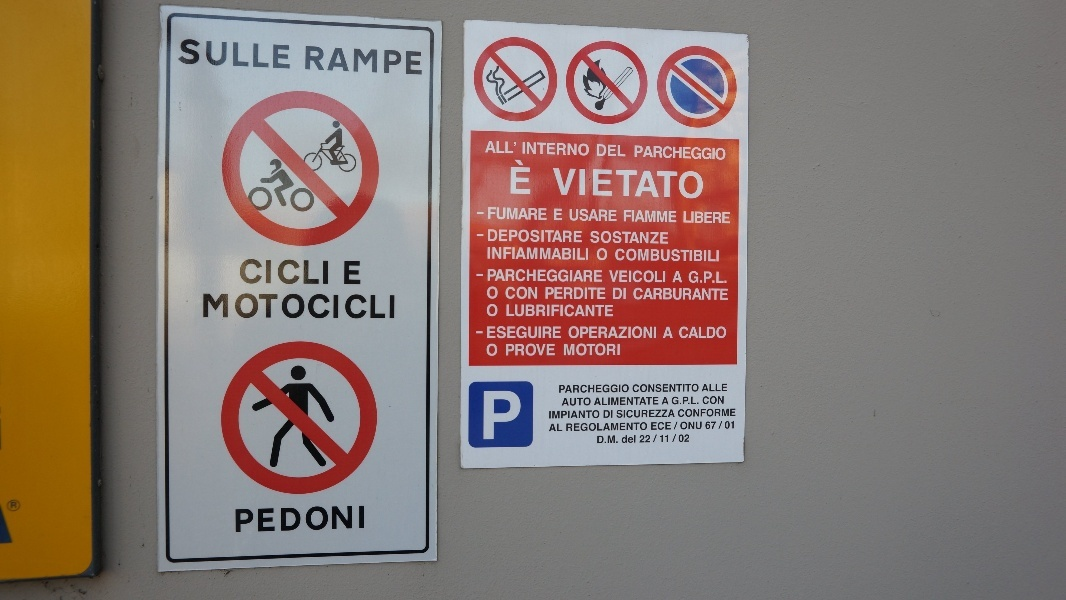text: (497, 391, 512, 440), (484, 391, 496, 440), (561, 168, 576, 200), (577, 168, 592, 200), (593, 168, 608, 200), (609, 168, 624, 200), (625, 168, 640, 200), (641, 168, 656, 200), (657, 168, 672, 200), (673, 168, 688, 200), (689, 168, 704, 200), (193, 39, 208, 70), (209, 39, 224, 70), (225, 39, 240, 70), (241, 39, 256, 70), (257, 39, 272, 70), (273, 39, 288, 70), (513, 166, 528, 196), (305, 46, 320, 76), (321, 46, 336, 76), (337, 46, 352, 76), (353, 46, 368, 76), (369, 46, 384, 76), (385, 46, 400, 76), (401, 46, 416, 76), (513, 391, 522, 440), (241, 505, 256, 533), (257, 505, 272, 533), (273, 505, 288, 533), (289, 505, 304, 533), (305, 505, 320, 533), (321, 505, 336, 533), (337, 505, 352, 533), (209, 293, 224, 319), (225, 293, 240, 319), (241, 293, 256, 319), (257, 293, 272, 319), (273, 293, 288, 319), (289, 293, 304, 319), (305, 293, 320, 319), (321, 293, 336, 319), (337, 293, 352, 319), (353, 293, 368, 319), (369, 293, 384, 319), (241, 259, 256, 285), (257, 259, 272, 285), (273, 259, 288, 285), (289, 259, 304, 285), (305, 259, 320, 285), (180, 39, 192, 70), (353, 505, 365, 533), (385, 293, 395, 319), (641, 145, 656, 162), (657, 145, 672, 162), (673, 145, 688, 162), (689, 145, 704, 162), (705, 145, 720, 162), (497, 229, 512, 244), (513, 229, 528, 244), (529, 229, 544, 244), (545, 229, 560, 244), (561, 229, 576, 244), (625, 248, 640, 263), (641, 248, 656, 263), (657, 248, 672, 263), (673, 248, 688, 263), (689, 248, 704, 263), (705, 248, 720, 263), (553, 168, 560, 200), (497, 140, 512, 154), (529, 142, 544, 156), (545, 142, 560, 156), (561, 142, 576, 156), (609, 144, 624, 158), (577, 209, 592, 223), (593, 209, 608, 223), (593, 231, 608, 245), (609, 231, 624, 245), (625, 231, 640, 245), (641, 231, 656, 245), (497, 247, 512, 261), (513, 247, 528, 261), (529, 247, 544, 261), (545, 247, 560, 261), (561, 247, 576, 261), (689, 211, 704, 225), (705, 211, 720, 225), (497, 269, 512, 283), (513, 269, 528, 283), (529, 269, 544, 283), (545, 269, 560, 283), (561, 269, 576, 283), (577, 269, 592, 283), (689, 271, 704, 285), (705, 271, 720, 285), (545, 326, 561, 339), (641, 326, 657, 339), (321, 259, 329, 285), (497, 208, 512, 221), (513, 208, 528, 221), (529, 208, 544, 221), (625, 210, 640, 223), (641, 210, 656, 223), (657, 210, 672, 223), (513, 287, 528, 300), (561, 287, 576, 300), (577, 287, 592, 300), (513, 304, 528, 317), (529, 304, 544, 317), (545, 304, 560, 317), (561, 304, 576, 317), (577, 304, 592, 317), (593, 304, 608, 317), (609, 270, 624, 283), (625, 270, 640, 283), (641, 270, 656, 283), (641, 288, 656, 301), (657, 288, 672, 301), (673, 288, 688, 301), (689, 288, 704, 301), (705, 288, 720, 301), (497, 326, 512, 339), (513, 326, 528, 339), (529, 326, 544, 339), (513, 344, 528, 357), (529, 344, 544, 357), (577, 326, 592, 339), (593, 326, 608, 339), (609, 326, 624, 339), (625, 326, 640, 339), (689, 326, 704, 339), (705, 326, 720, 339), (344, 261, 352, 285), (353, 261, 361, 285), (577, 142, 590, 156), (546, 287, 560, 300), (577, 344, 592, 356), (593, 344, 608, 356), (593, 287, 606, 300), (657, 231, 669, 245), (577, 247, 589, 261), (597, 247, 608, 262), (486, 342, 496, 358), (597, 144, 608, 158), (561, 384, 576, 394), (577, 384, 592, 394), (593, 384, 608, 394), (609, 384, 624, 394), (625, 409, 640, 419), (641, 409, 656, 419), (657, 409, 672, 419), (673, 396, 688, 406), (417, 46, 422, 76), (676, 271, 688, 283), (564, 344, 576, 356), (609, 344, 621, 356), (545, 344, 556, 357), (721, 211, 731, 225), (593, 269, 603, 283), (615, 248, 624, 263), (577, 398, 592, 407), (609, 397, 624, 406), (625, 397, 640, 406), (641, 397, 656, 406), (641, 384, 656, 393), (657, 384, 672, 393), (673, 384, 688, 393), (705, 396, 720, 405), (689, 409, 704, 418), (705, 409, 720, 418), (721, 409, 736, 418), (561, 410, 576, 419), (577, 410, 592, 419), (577, 423, 592, 432), (593, 423, 608, 432), (609, 423, 624, 432), (625, 423, 640, 432), (657, 422, 672, 431), (613, 288, 624, 300), (203, 293, 208, 319), (487, 247, 496, 261), (487, 286, 496, 300), (487, 303, 496, 317), (488, 229, 496, 244), (705, 384, 720, 392), (529, 287, 538, 300), (657, 270, 666, 283), (487, 326, 496, 339), (679, 326, 688, 339), (609, 209, 617, 223), (488, 269, 496, 283), (689, 422, 703, 430), (706, 422, 720, 430), (236, 505, 240, 533), (689, 396, 700, 406), (564, 398, 576, 407), (488, 208, 496, 221), (721, 288, 729, 301), (568, 326, 576, 339), (721, 145, 727, 162), (597, 397, 608, 406), (689, 384, 700, 393), (549, 410, 560, 419), (625, 435, 636, 444), (725, 421, 736, 430), (489, 140, 496, 154), (721, 271, 728, 285), (660, 435, 672, 443), (505, 287, 512, 300), (577, 229, 583, 244), (678, 409, 688, 418), (566, 423, 576, 432), (597, 436, 608, 444), (635, 145, 640, 162), (570, 209, 576, 223), (609, 436, 619, 444), (641, 435, 651, 443), (506, 304, 512, 317), (634, 288, 640, 301), (506, 344, 512, 357), (721, 326, 727, 339), (554, 209, 560, 221), (679, 435, 688, 443), (523, 142, 528, 156), (617, 409, 624, 419), (609, 304, 614, 317), (552, 424, 560, 432), (633, 384, 640, 393), (593, 410, 600, 419), (641, 423, 648, 432), (510, 166, 512, 196), (529, 166, 531, 196), (667, 327, 672, 339), (513, 140, 517, 154), (684, 211, 688, 225), (665, 397, 672, 405), (721, 384, 728, 392), (681, 422, 688, 430), (673, 210, 677, 223), (651, 422, 656, 431), (497, 303, 500, 317), (625, 384, 629, 394), (545, 208, 548, 221), (604, 410, 608, 419), (609, 410, 613, 419), (11, 502, 16, 509), (497, 342, 499, 358), (289, 39, 290, 70), (497, 286, 499, 300), (721, 396, 724, 405), (561, 209, 563, 221), (625, 288, 627, 300), (561, 424, 564, 432), (673, 409, 675, 419), (657, 397, 659, 406), (702, 396, 704, 405), (622, 435, 624, 444), (689, 435, 691, 443), (625, 144, 626, 158), (591, 231, 592, 245), (673, 327, 674, 339), (559, 384, 560, 394)
